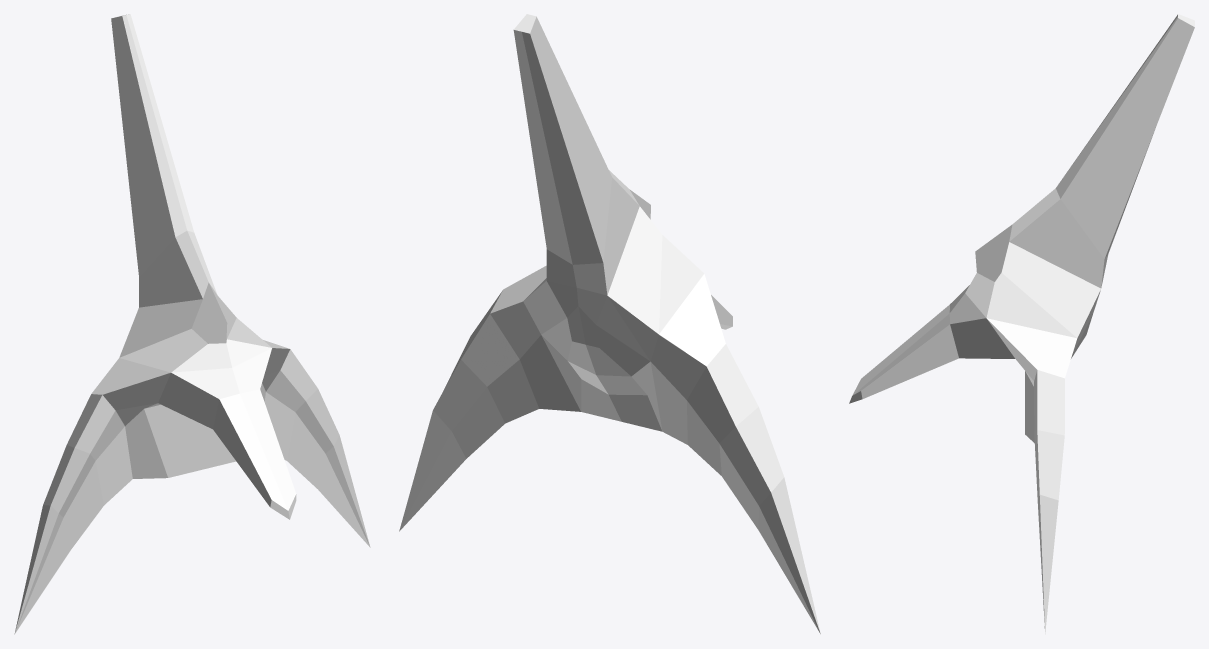
The model's file is head_28.fbx.
The picture shows the model from 3 angles, left to right: view 1: azimuth 30°, elevation 25°; view 2: azimuth 150°, elevation 25°; view 3: azimuth 270°, elevation 25°; orthographic projection. The views are drawn at different scales.
Parts seen in each view (by area): view 1: Cube.155; view 2: Cube.155; view 3: Cube.155.
Boxes of the visible parts, bbox=[...] form: Cube.155: bbox=[14, 14, 370, 634]; Cube.155: bbox=[399, 14, 820, 634]; Cube.155: bbox=[849, 14, 1194, 634].
Size of the model in its own units: 90.46 by 128 by 75.61.
